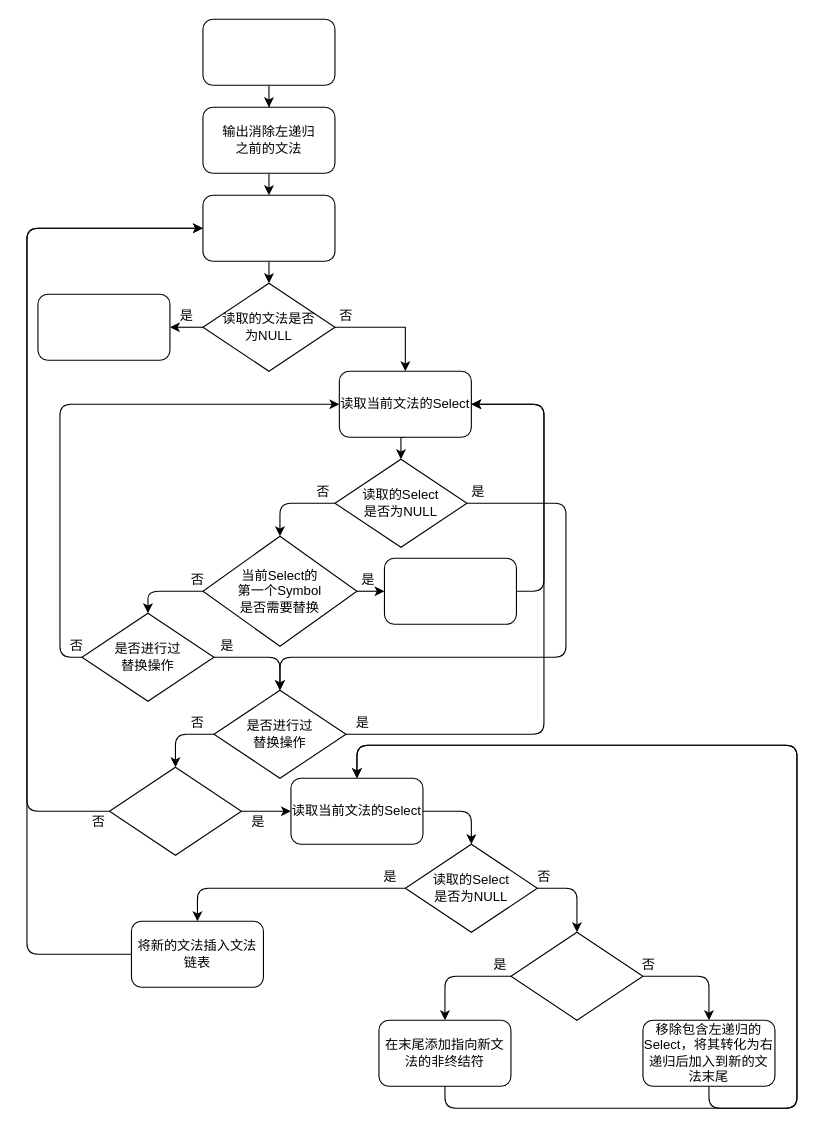
Some shapes in this 825 by 1136 pixel diagram are drawn without their labels. Each missing label, with the centre of its shape:
"从文法链表中 读取一个文法" belongs at (x=268, y=227).
"当前文法是否 有左递归" belongs at (x=174, y=810).
"替换这个Symbol" belongs at (x=449, y=590).
"读取文法" belongs at (x=268, y=51).
"读取的Select 是否存在左递归" belongs at (x=576, y=975).
"输出消除左递归 后的文法" belongs at (x=103, y=326).
